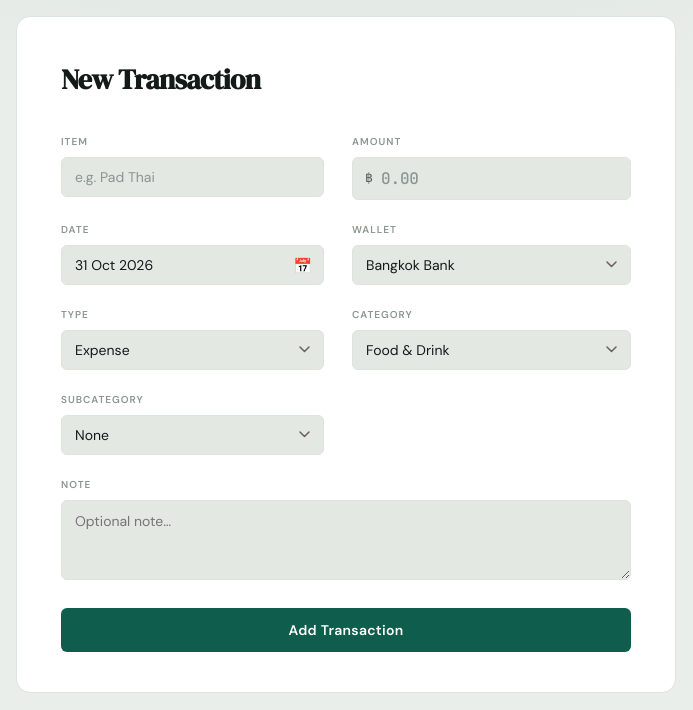
Test case: shows To Wallet field when tx_type is transfer
The image size is (693, 710).
Step 1. Select "Transfer" in the dropdown labelled "Type" → {"x": 192, "y": 350}, box 61,330 -> 324,370
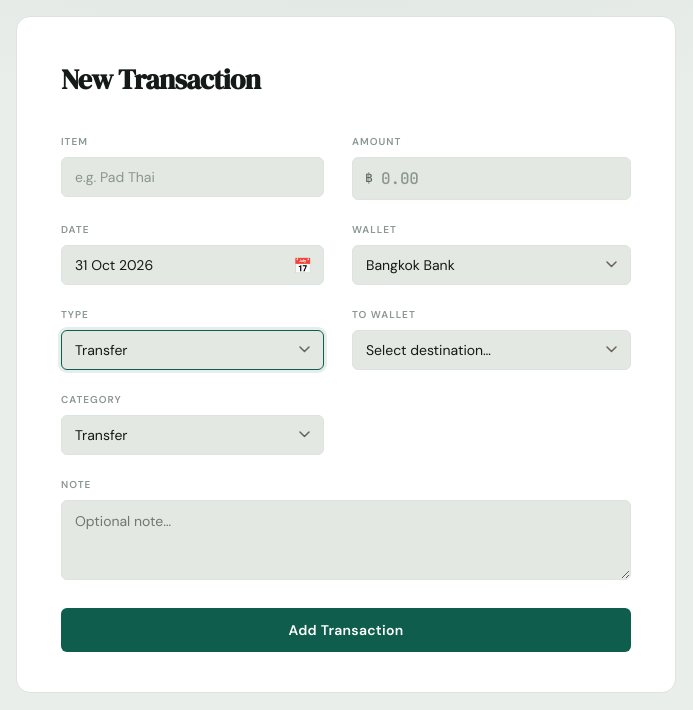
Expected: the dropdown labelled "To Wallet" is shown, 352,330 -> 631,370
